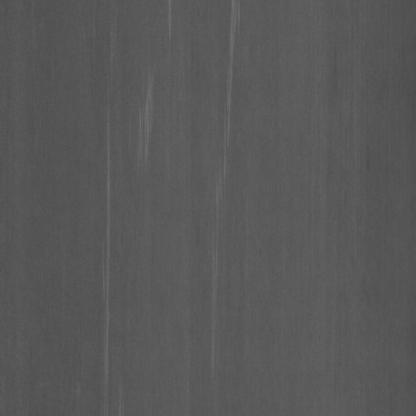silk_spot: (200, 4, 250, 386), (89, 94, 122, 393), (137, 76, 161, 178)
